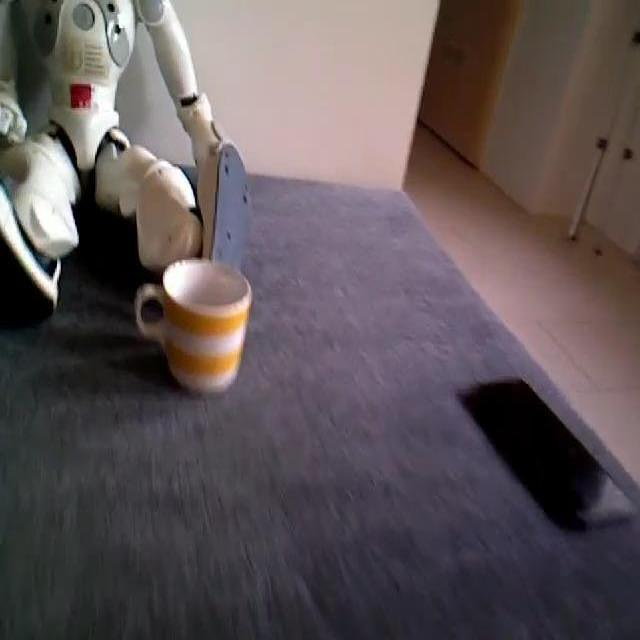cup: (136, 261, 257, 395)
